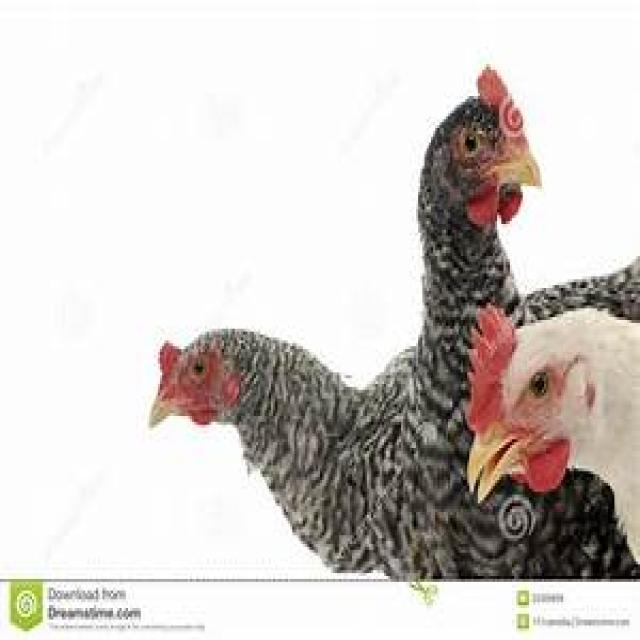animal: (134, 291, 436, 584), (454, 284, 640, 556), (361, 63, 557, 301)
